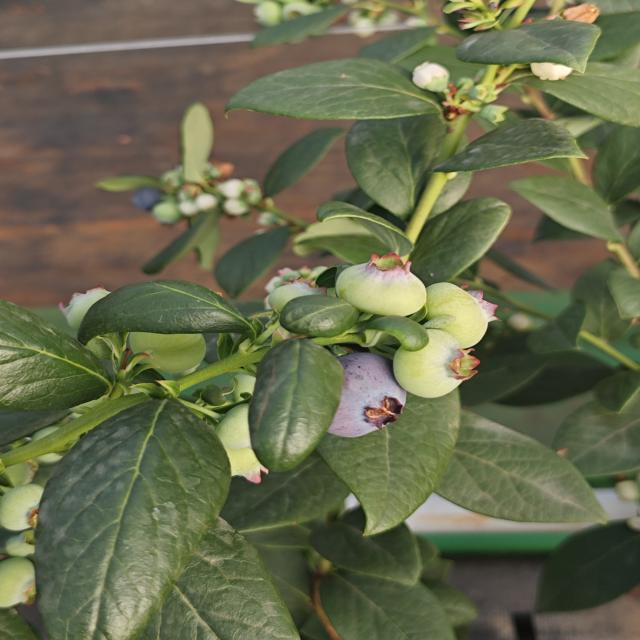ripe: (322, 350, 409, 441), (130, 182, 164, 216)
